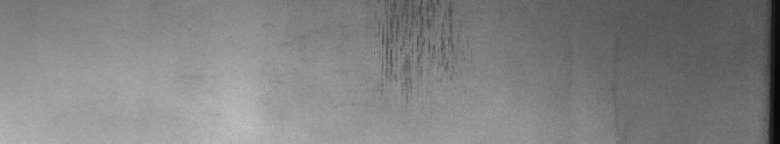ka: (376, 4, 456, 102)
